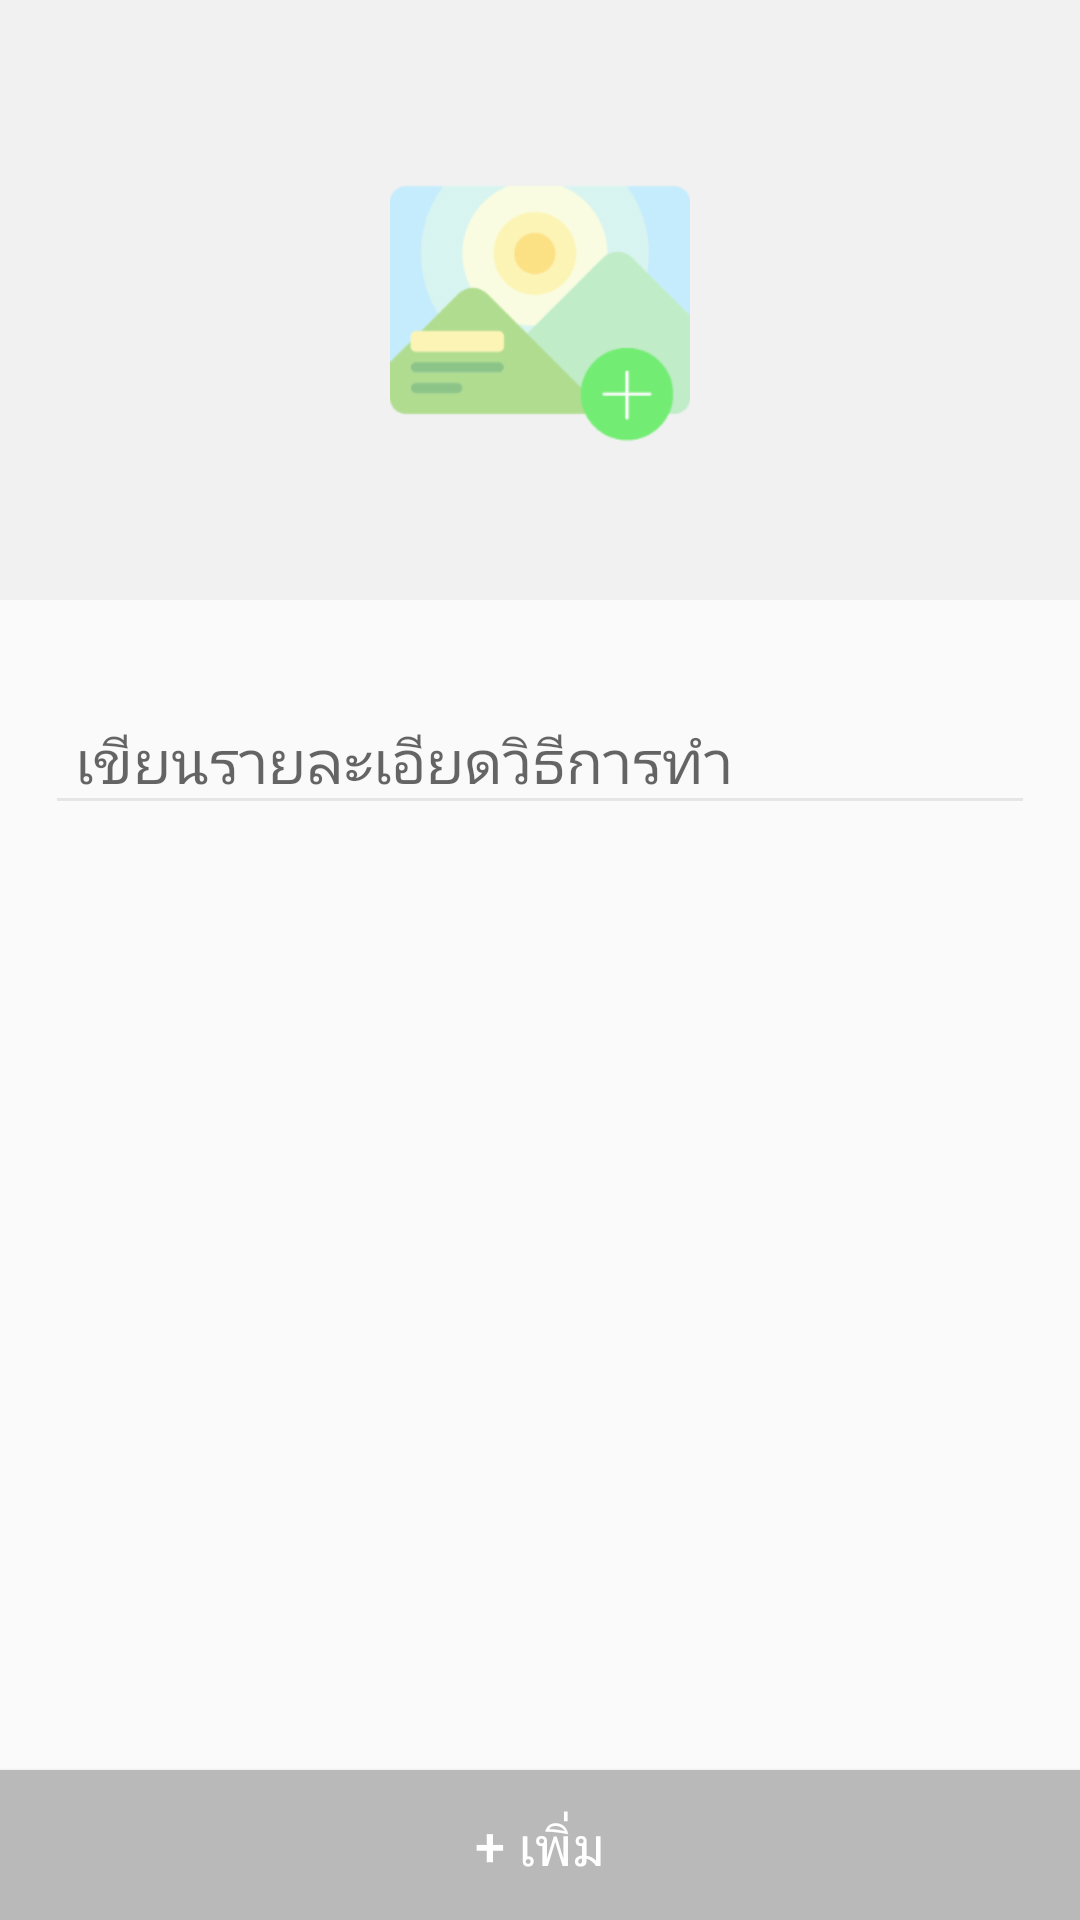

Icon click points for this 1080*1920 phone screenshot, format (x=x, y=y):
add: (x=540, y=313)
